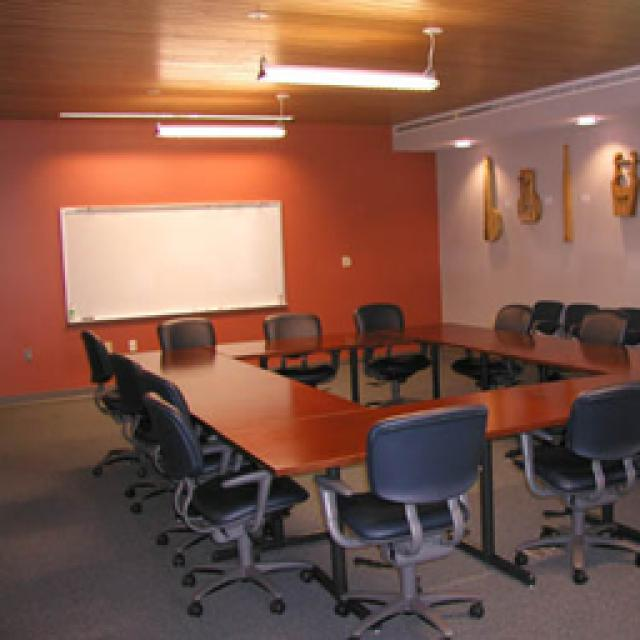ceiling lamps: (255, 62, 438, 90), (150, 118, 288, 138), (445, 132, 472, 148)
chair: (138, 368, 190, 422), (152, 312, 210, 348), (572, 308, 625, 340), (260, 308, 320, 332), (350, 298, 402, 325), (558, 298, 595, 335), (610, 305, 638, 348), (490, 302, 530, 328), (530, 292, 560, 325)
chair -occluded-: (310, 402, 482, 638), (140, 392, 308, 610), (502, 378, 635, 580), (78, 325, 142, 468), (108, 352, 138, 430)
conference table: (120, 315, 638, 470)
eilling lamp: (568, 110, 602, 128)
hanging instrument: (512, 162, 542, 222)
wall outlets: (18, 342, 32, 358), (338, 250, 350, 265), (122, 335, 138, 345)
whiteboard: (55, 198, 288, 322)
